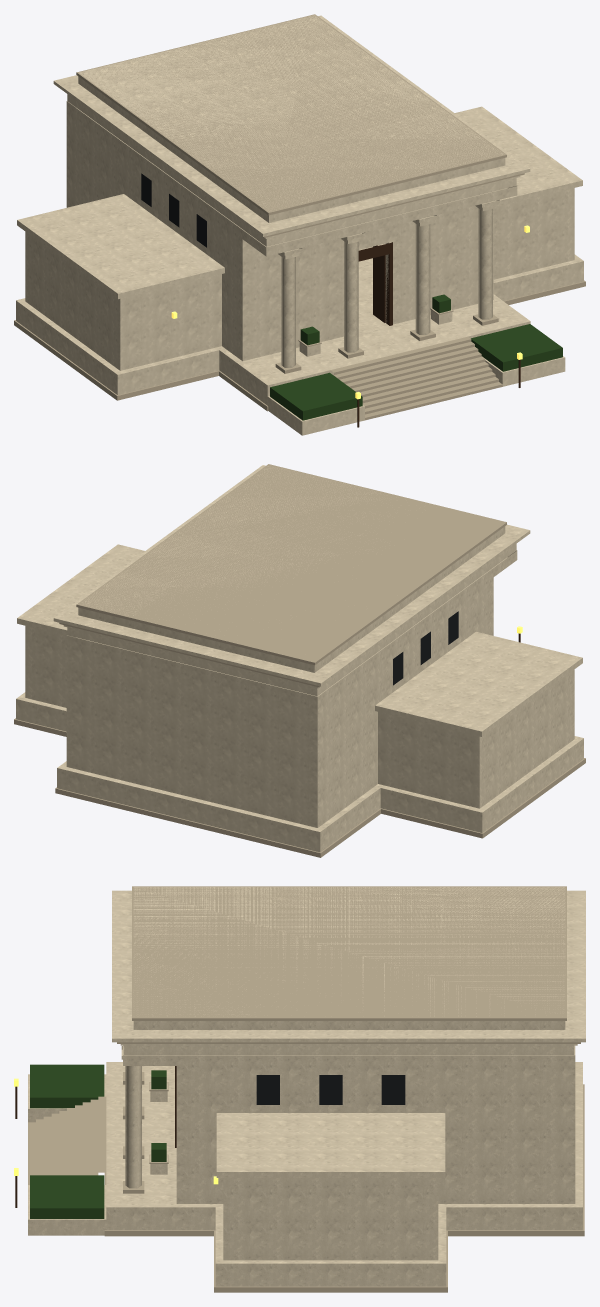
Rendered from agora.glb.
The picture shows the model from 3 angles, top to bottom: view 1: azimuth 30°, elevation 25°; view 2: azimuth 150°, elevation 25°; view 3: azimuth 270°, elevation 25°; orthographic projection. The views are drawn at different scales.
Parts seen in each view (by area): view 1: agora; view 2: agora; view 3: agora.
Part boxes in pixels (box(x1,y1,x2,y2)): agora: box(14, 14, 585, 435); agora: box(14, 464, 585, 857); agora: box(14, 886, 585, 1292).
Bounding box in the file's own units: 31.36 × 11.9 × 29.27.
6 materials, 1 textured.
